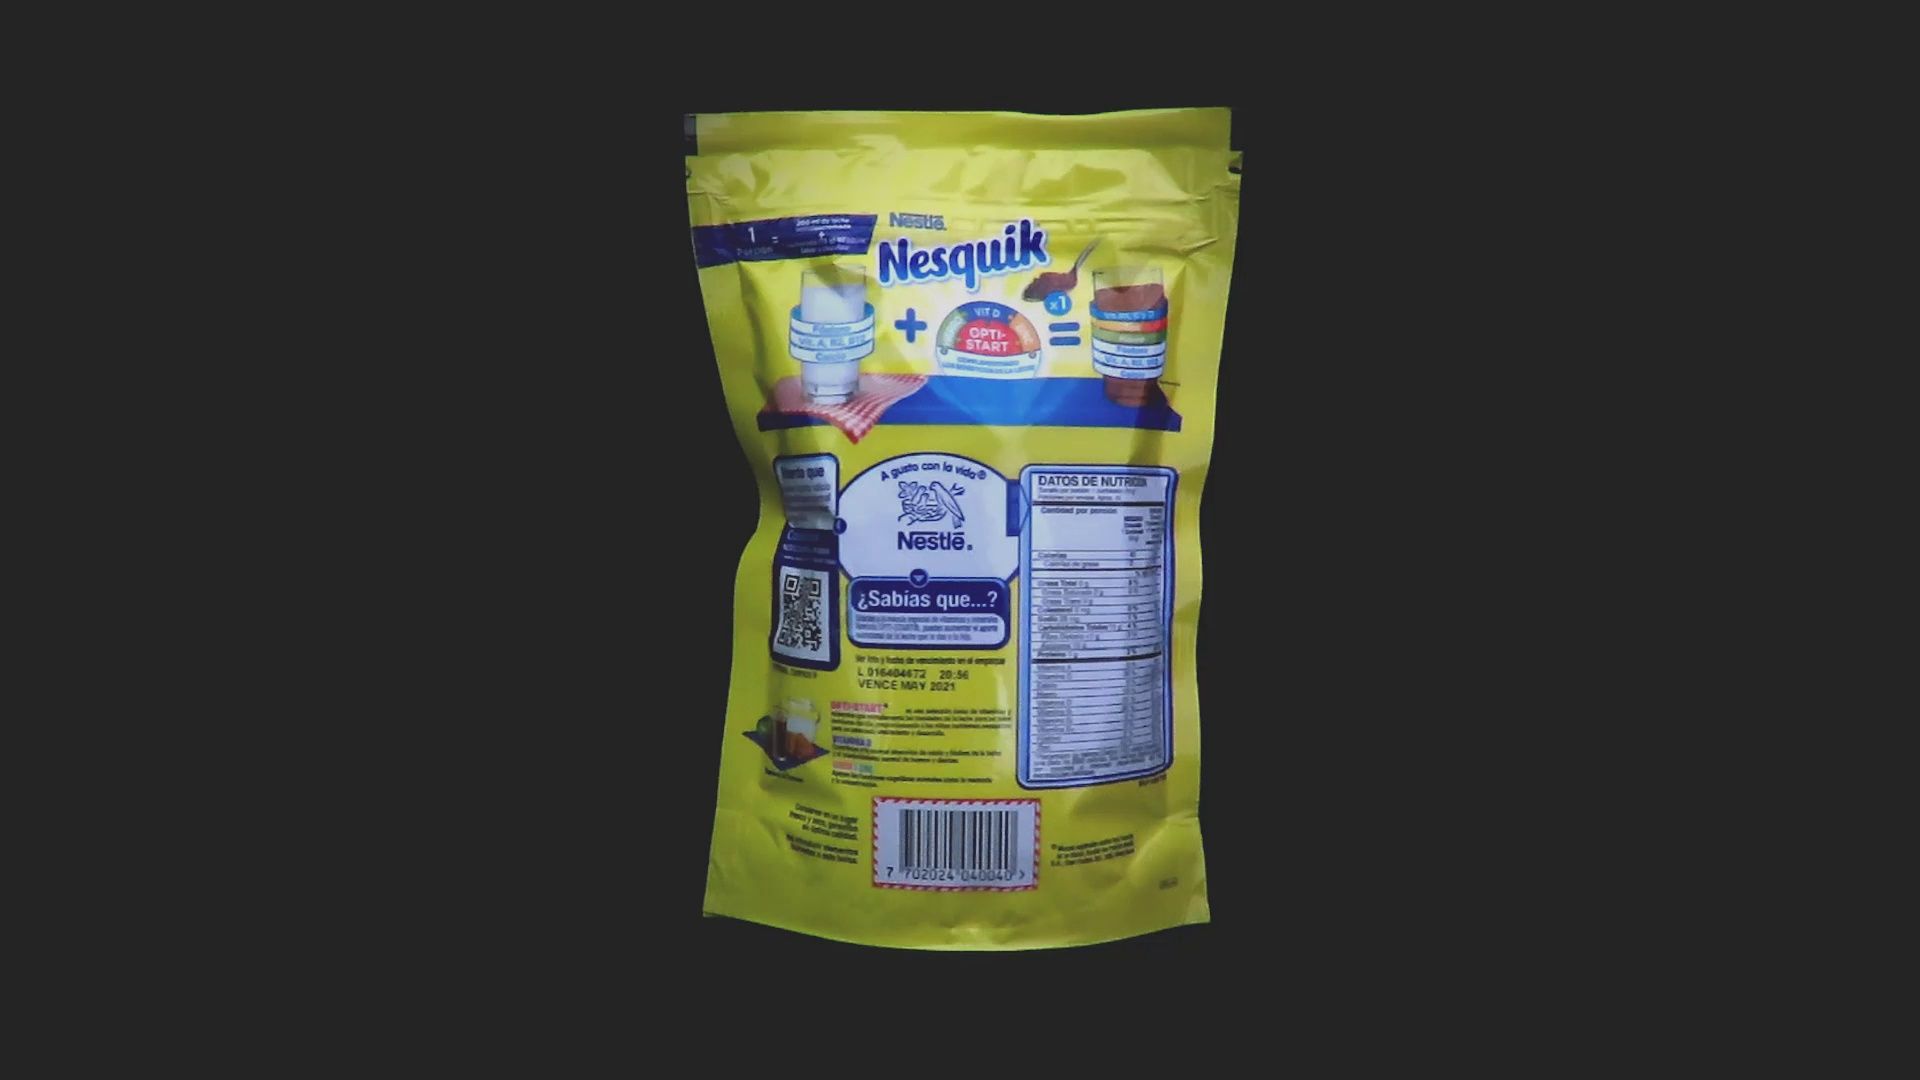COL0170303DYP20000: (679, 102, 1250, 957)
